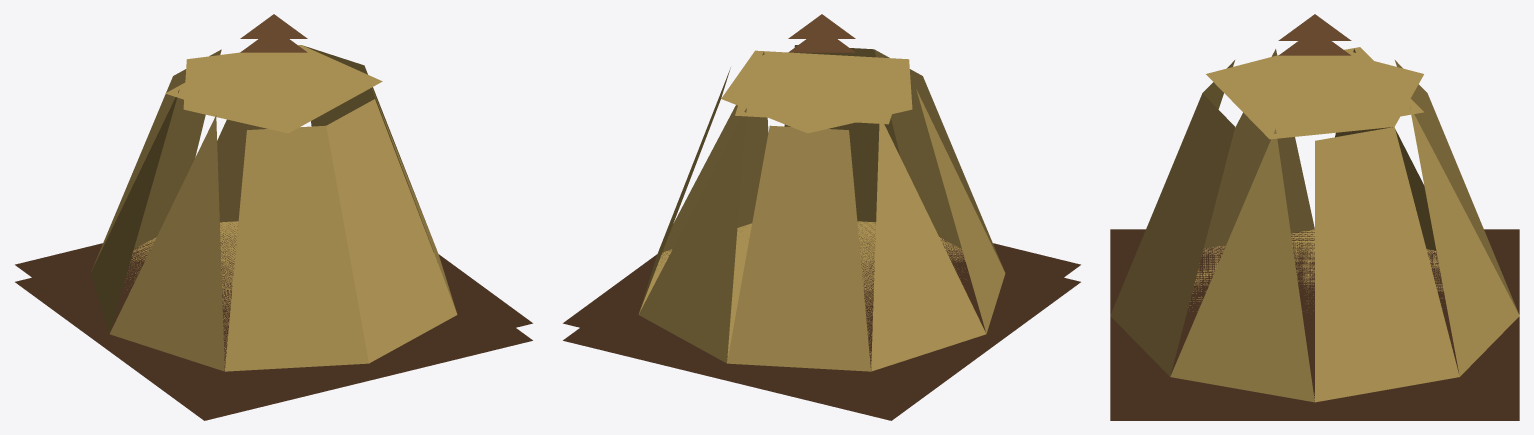
The model's file is prop_haystack_lod1.glb.
3 views of the same model, side by side, from view 1: azimuth 30°, elevation 25°; view 2: azimuth 150°, elevation 25°; view 3: azimuth 270°, elevation 25° (orthographic). The views are drawn at different scales.
Parts seen in each view (by area): view 1: prop_haystack_lod1; view 2: prop_haystack_lod1; view 3: prop_haystack_lod1.
Boxes of the visible parts, bbox=[...] form: prop_haystack_lod1: bbox=[15, 14, 532, 420]; prop_haystack_lod1: bbox=[563, 14, 1080, 420]; prop_haystack_lod1: bbox=[1110, 14, 1519, 420].
Bounding box in the file's own units: 2 × 1.63 × 2.
